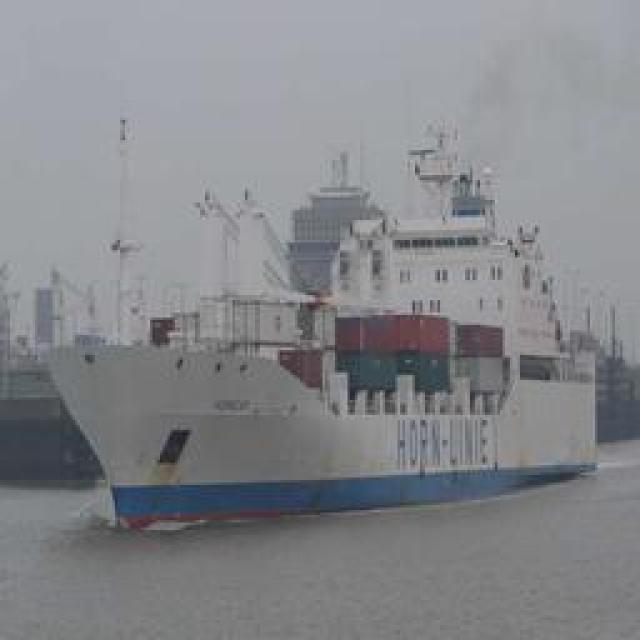CIV_Ship: (41, 126, 604, 536)
